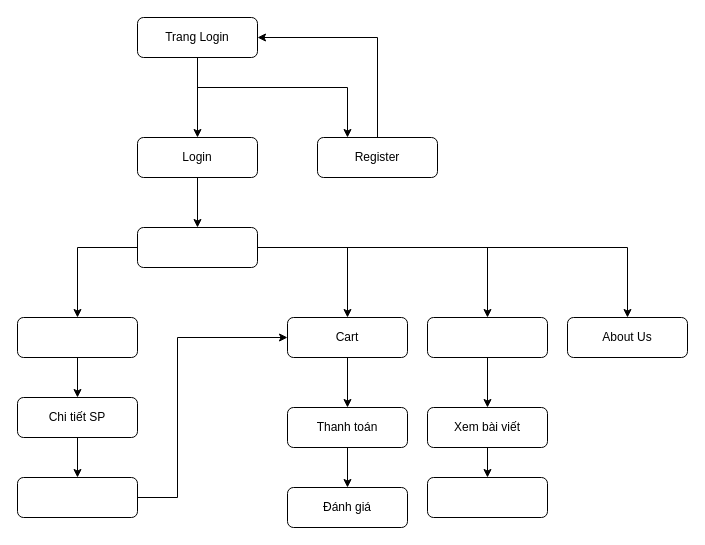
Some shapes in this 705 by 545 pixel diagram are drawn without their labels. Each missing label, with the box of its shape:
Home: (136, 226, 258, 268)
News: (426, 316, 548, 358)
Products: (16, 316, 138, 358)
Thêm vào giỏ hàng: (16, 476, 138, 518)
Đánh giá bài viết: (426, 476, 548, 518)
